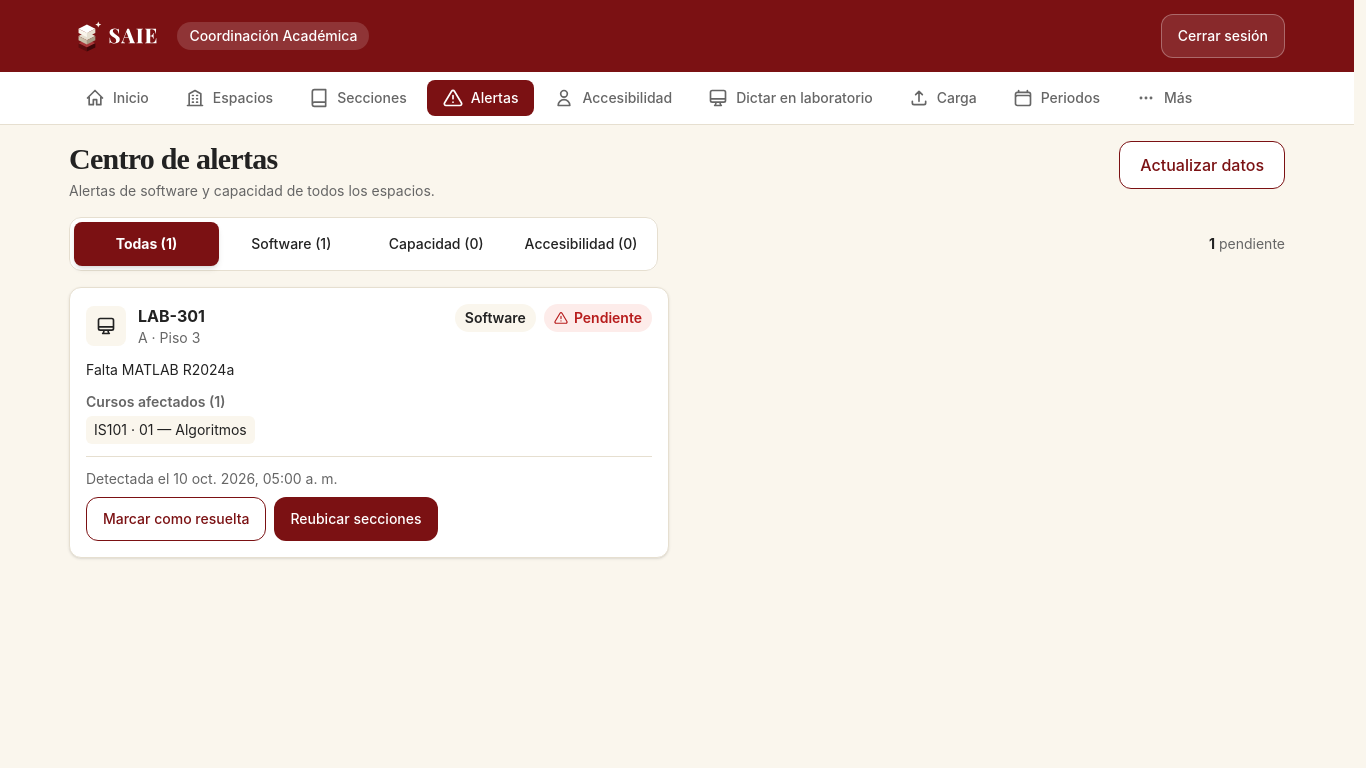
it: Lista de alertas (Issue 4.10) › muestra el error al resolver y permite reintentar la acción
Click the button "Marcar como resuelta" at (176, 519), box [86,497,266,541]
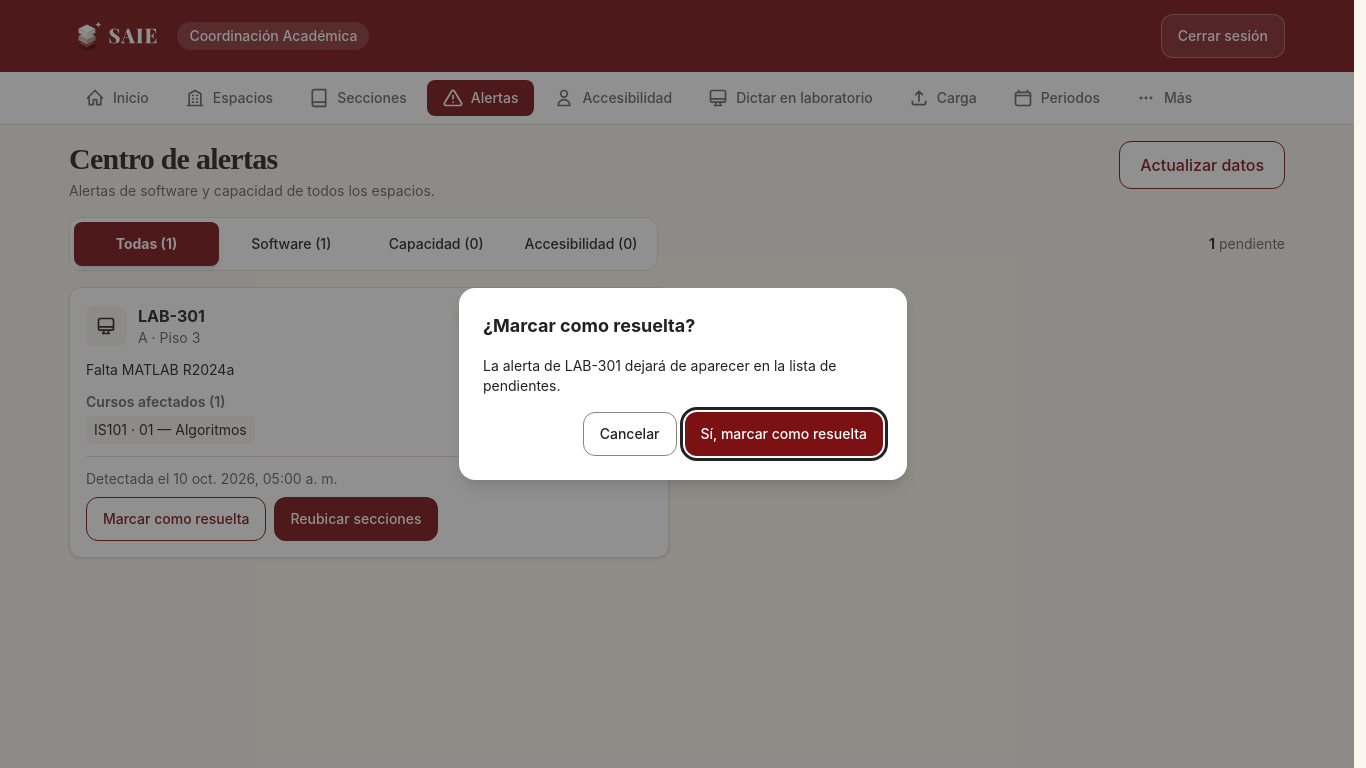
Click the button "Sí, marcar como resuelta" at (784, 434), box [684,412,883,456]
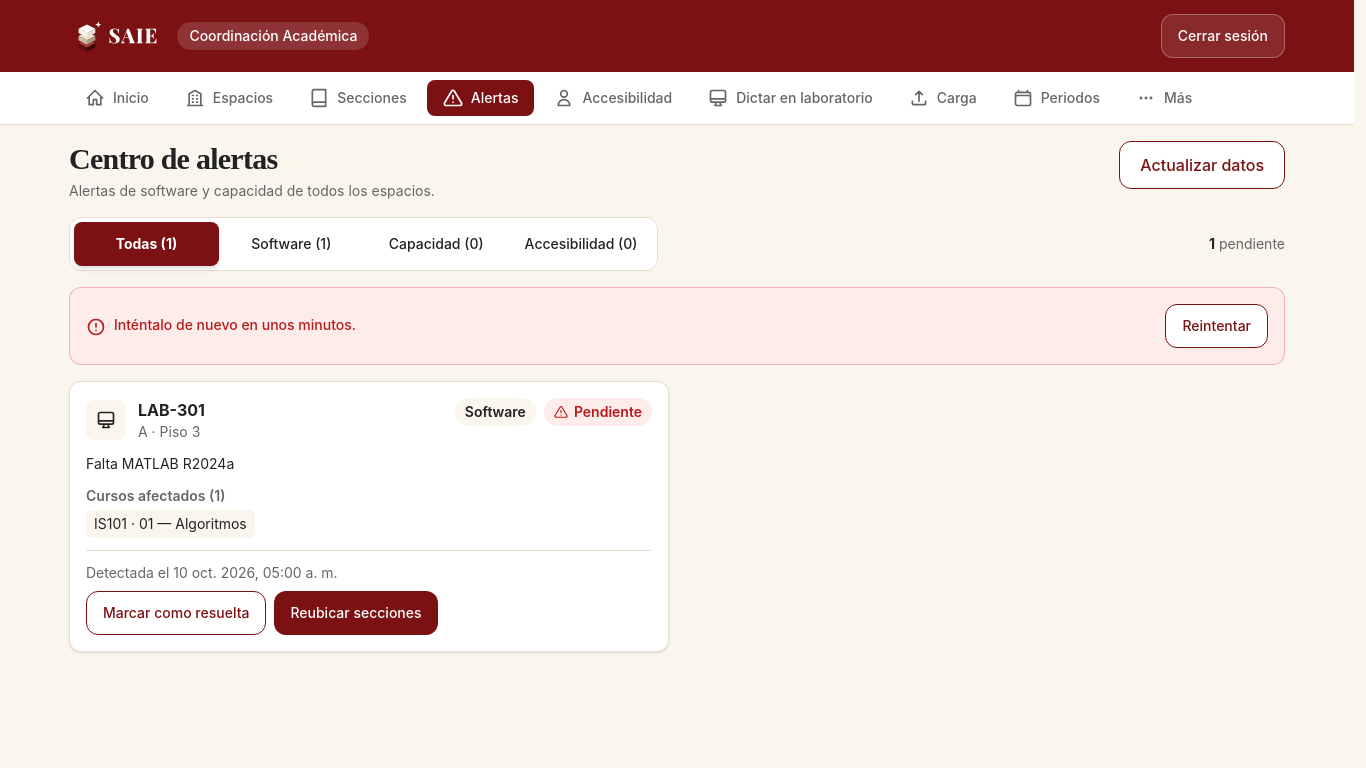
Now the message shows "Inténtalo de nuevo en unos minutos.", box [114,316,356,333]
Click the button "Reintentar" at (1217, 326), box [1166,304,1268,348]
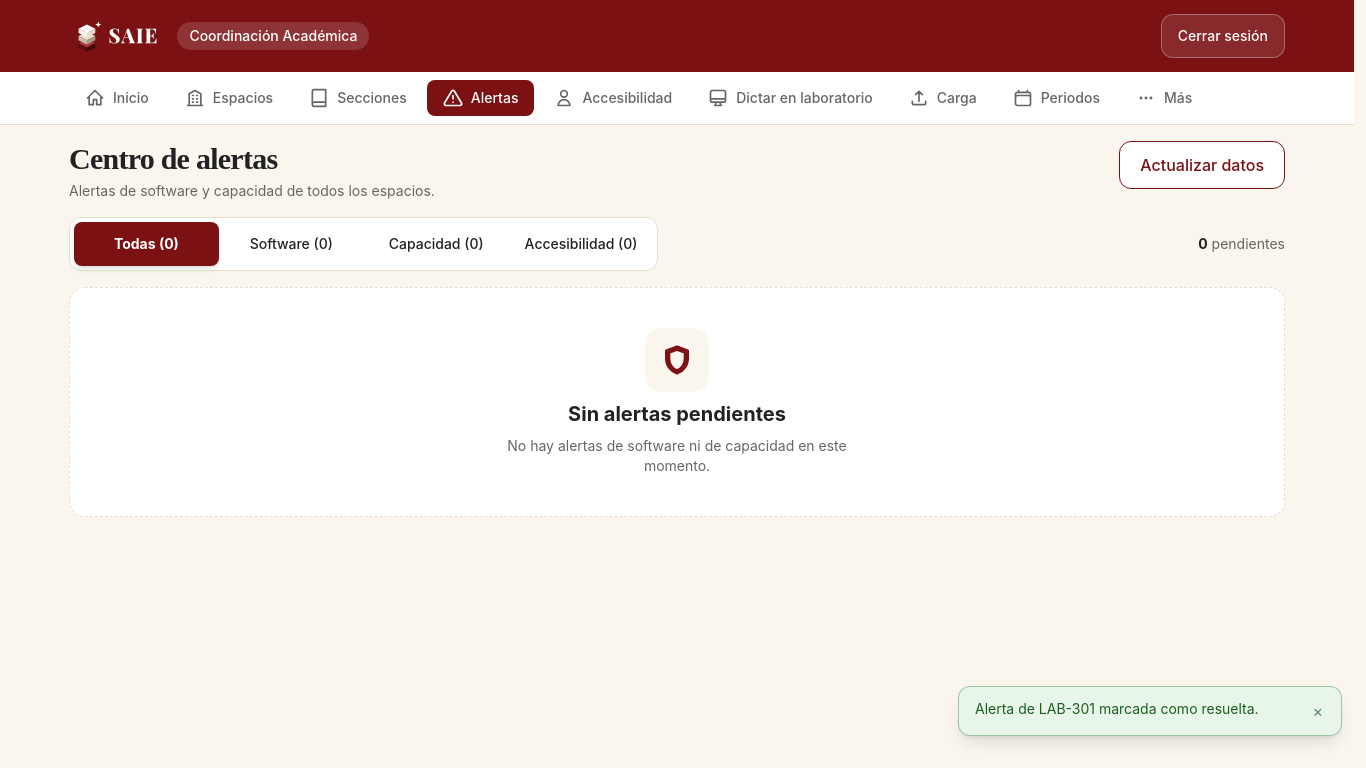
Now the text "Alerta de LAB-301 marcada como resuelta." is shown, box [975,699,1294,719]
